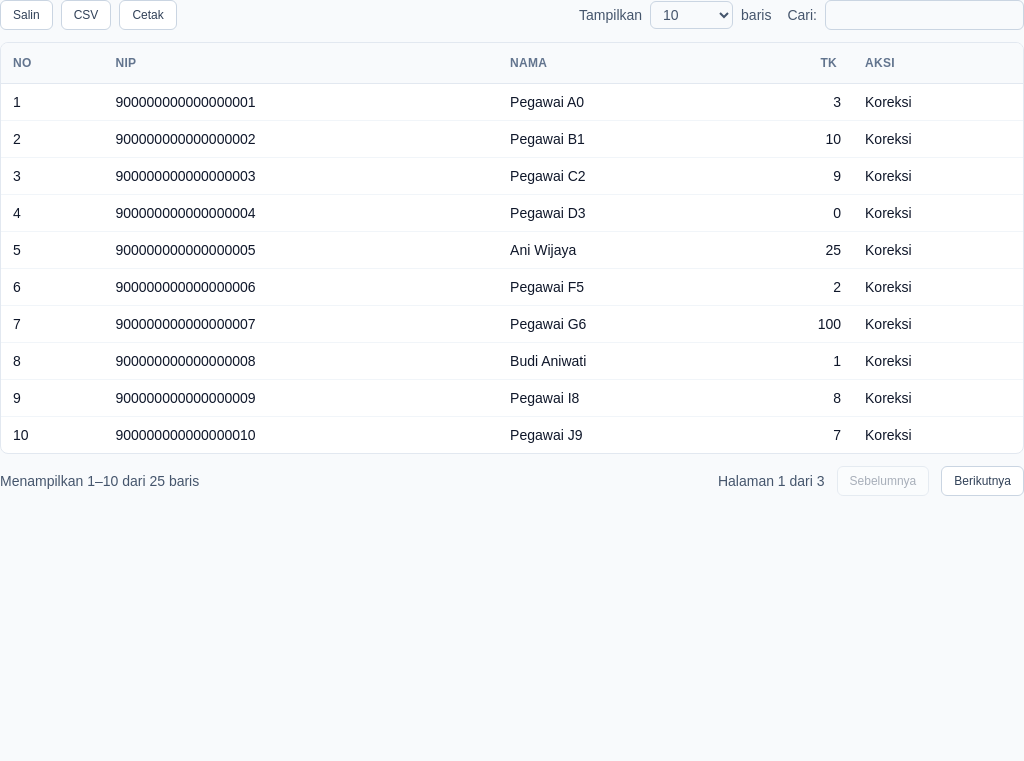
Test: TabelLaporan › jumlah per halaman dapat diubah, termasuk Semua; ada navigasi halaman
The width and height of the screenshot is (1024, 761).
Expected: the text "Halaman 1 dari 3" is shown, [718,471,824,491]
Select "25" in the dropdown labelled "Tampilkan" at (692, 15), box [650,1,733,29]
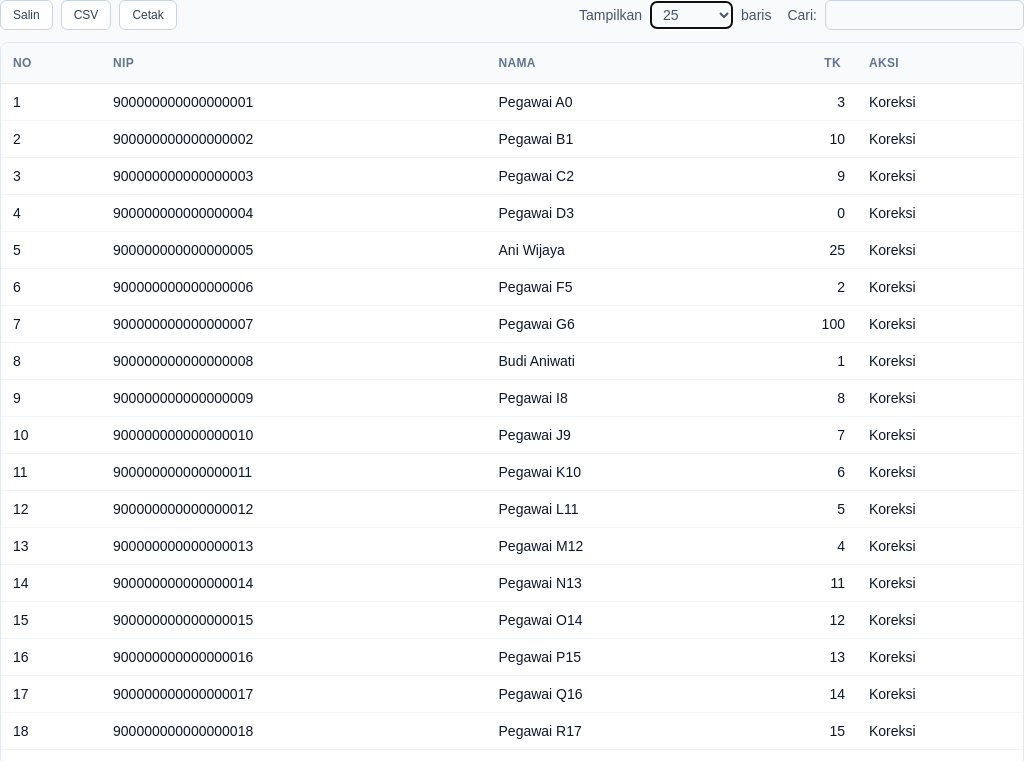
Select "Semua" in the dropdown labelled "Tampilkan" at (692, 15), box [650,1,733,29]
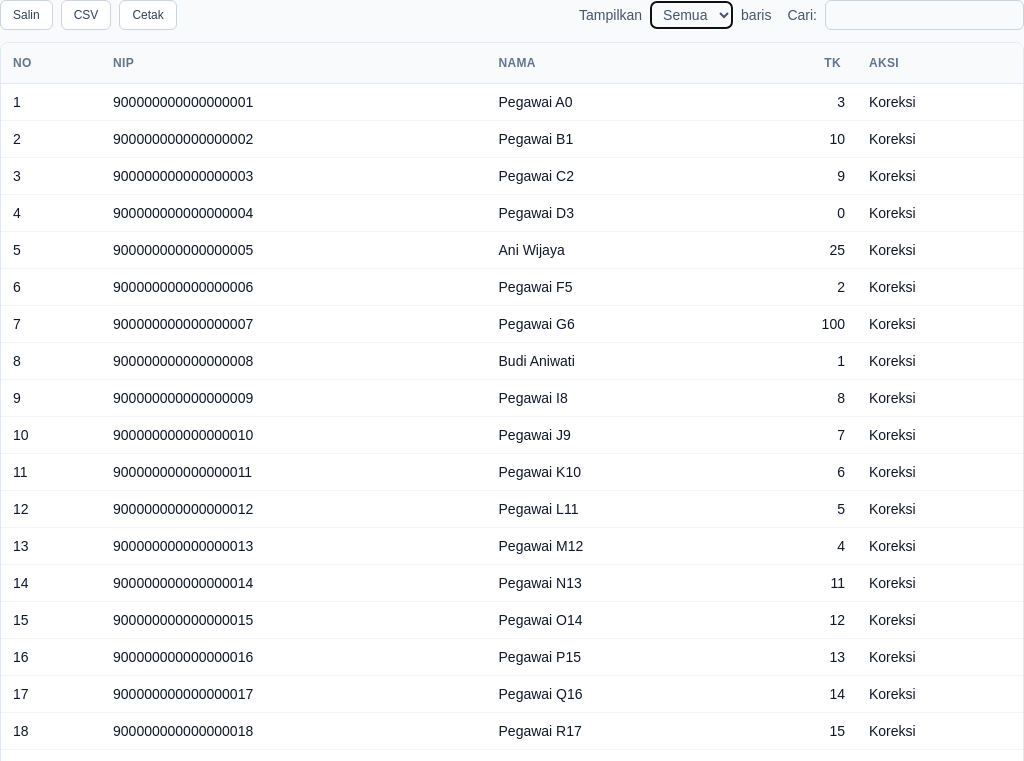
Select "10" in the dropdown labelled "Tampilkan" at (692, 15), box [650,1,733,29]
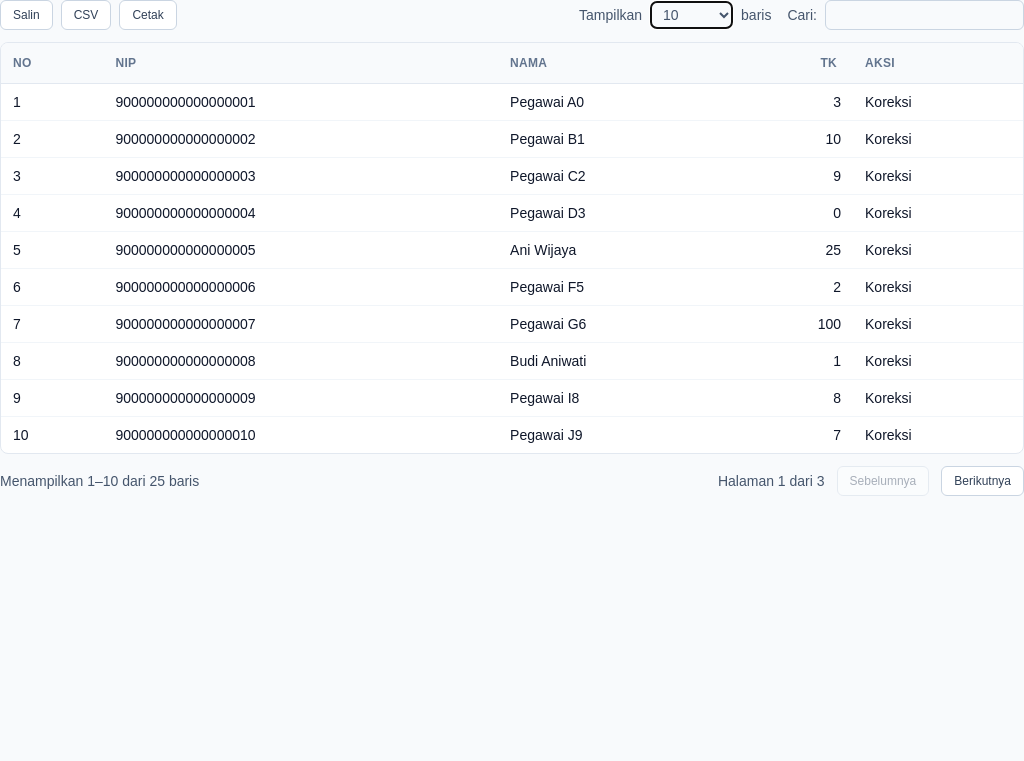
Click the button "Berikutnya" at (983, 481), box [941,466,1023,496]
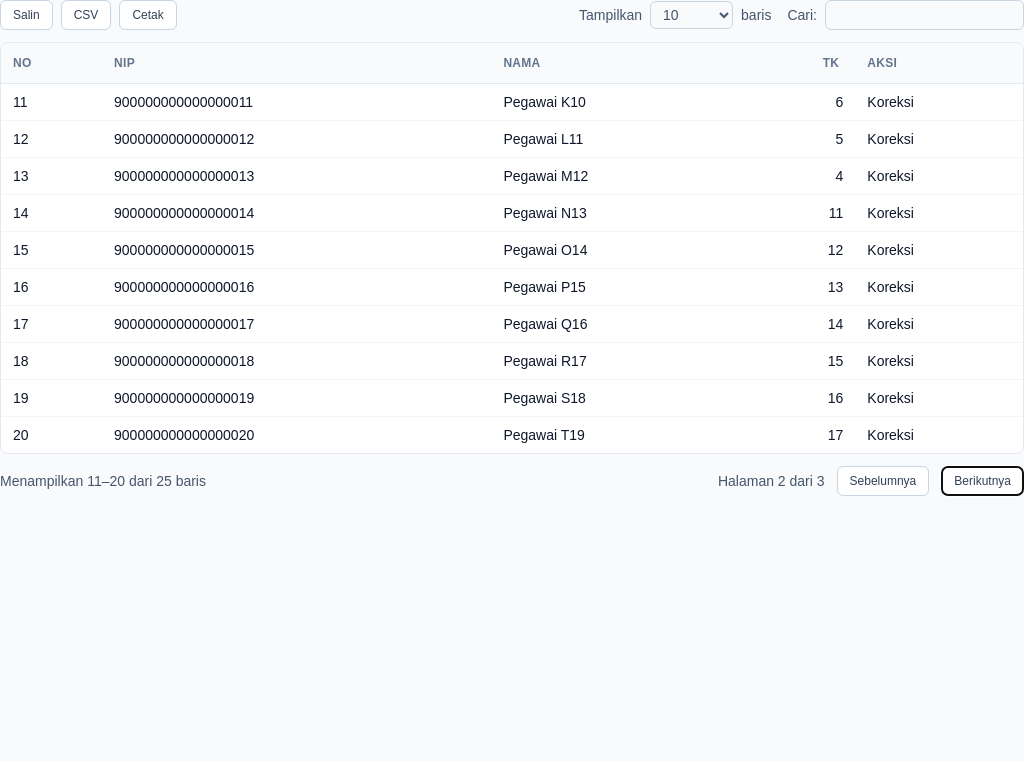
Now the text "Menampilkan 11–20 dari 25 baris" is shown, box [0,471,206,491]
